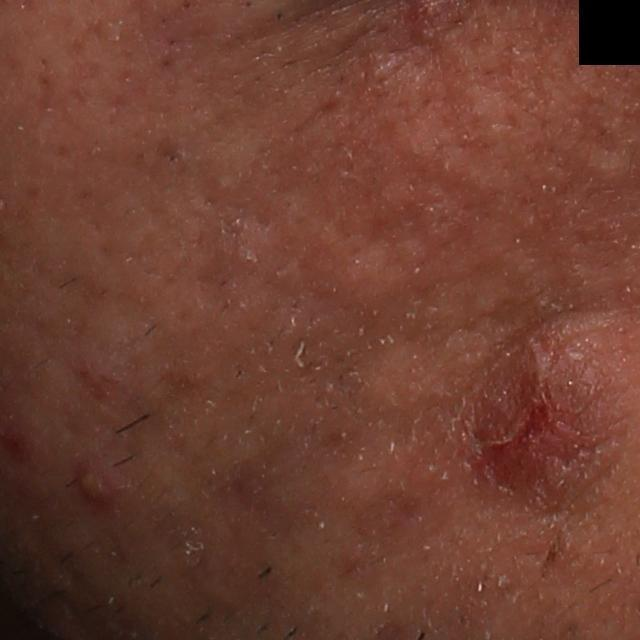hypertrophic_scar: (384, 78, 547, 219), (282, 228, 413, 312), (306, 440, 416, 523), (341, 346, 433, 423), (580, 150, 630, 179)
nodule: (474, 342, 626, 504)
pustule: (79, 466, 114, 511)
